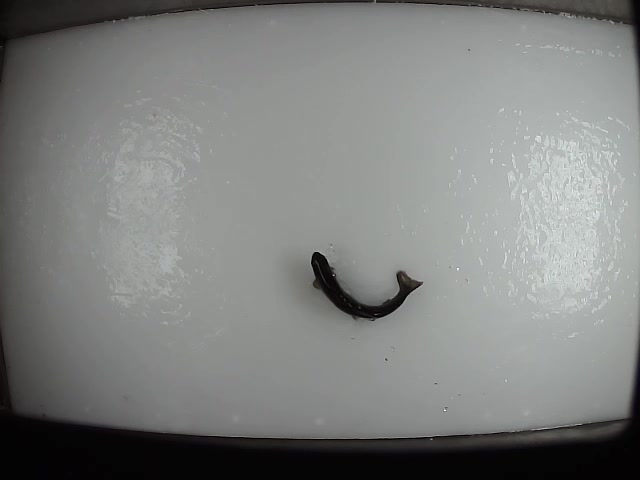fish: (307, 248, 424, 322)
